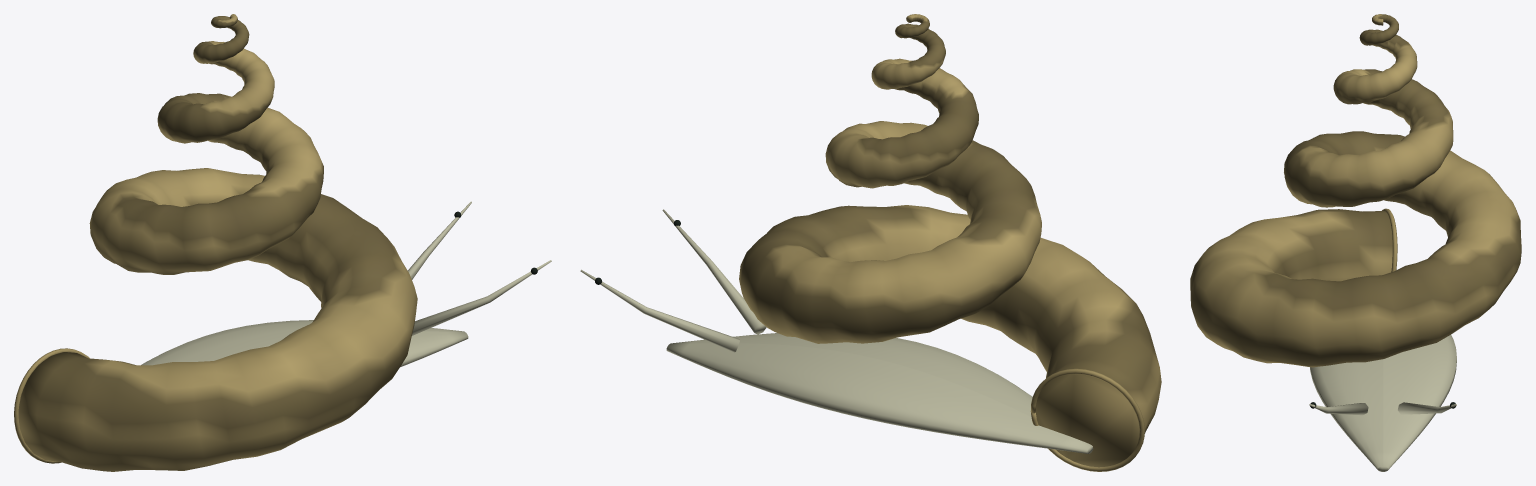
Rendered from assassin-desktop.glb.
3 views of the same model, side by side, from view 1: azimuth 30°, elevation 25°; view 2: azimuth 150°, elevation 25°; view 3: azimuth 270°, elevation 25° (orthographic). The views are drawn at different scales.
Parts seen in each view (by area): view 1: continuous-whorled-shell, muscular-foot, cephalic-tentacle, aperture-lip; view 2: continuous-whorled-shell, muscular-foot, cephalic-tentacle, aperture-lip; view 3: continuous-whorled-shell, muscular-foot, cephalic-tentacle, aperture-lip.
Part boxes in pixels (x1,y1,x2,y2): continuous-whorled-shell: (18,14,417,471); muscular-foot: (141,320,468,367); cephalic-tentacle: (408,201,551,335); aperture-lip: (14,348,89,463); continuous-whorled-shell: (739,14,1161,467); muscular-foot: (666,333,1093,453); cephalic-tentacle: (580,209,766,352); aperture-lip: (1030,368,1144,471); continuous-whorled-shell: (1190,14,1521,367); muscular-foot: (1310,335,1456,471); cephalic-tentacle: (1309,402,1456,415); aperture-lip: (1382,208,1397,272).
Bounding box in the file's own units: 0.6523 × 0.4992 × 0.4072.
